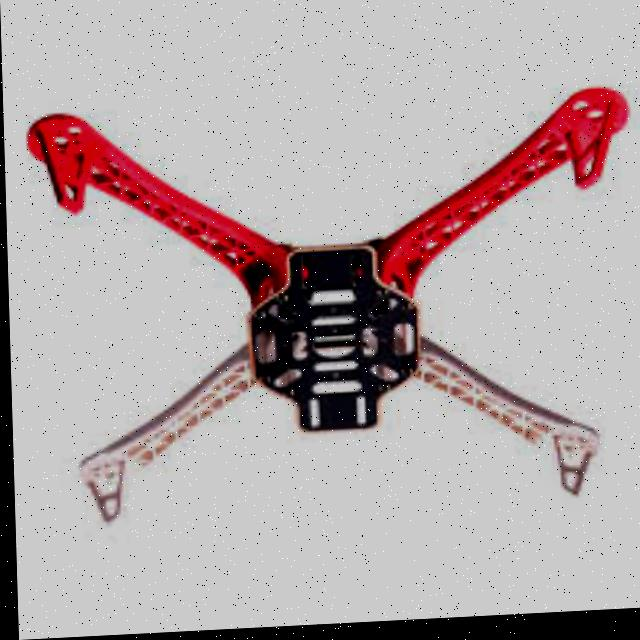drone: (26, 72, 640, 547)
